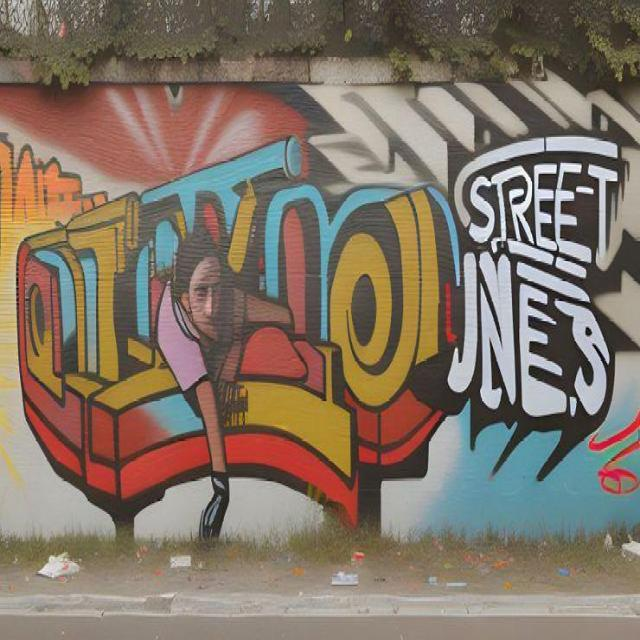nonspitting: (14, 134, 458, 528), (447, 134, 622, 428)
spitting: (155, 226, 294, 531)
